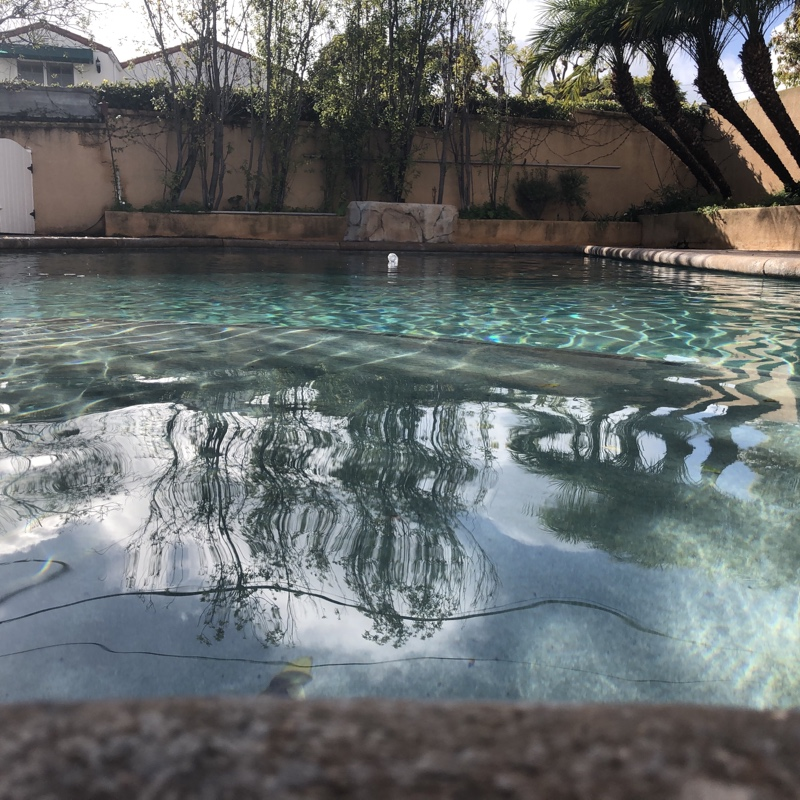Plastic Bottle: (385, 251, 398, 269)
